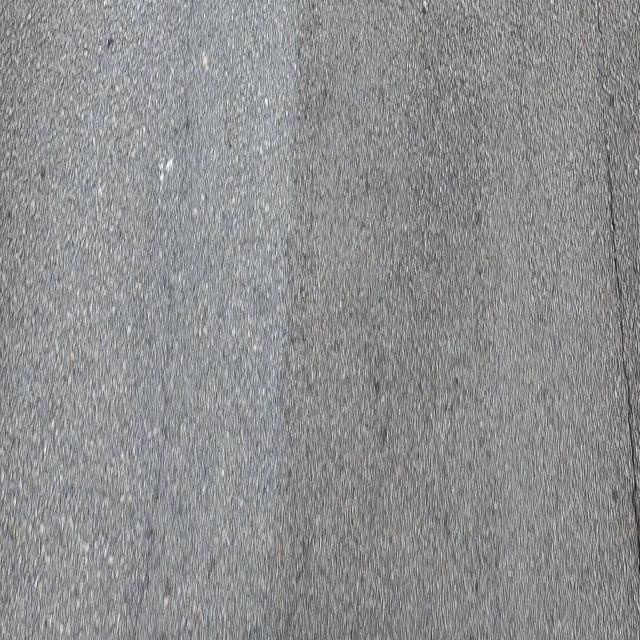Retak-Memanjang: (605, 152, 640, 579)
